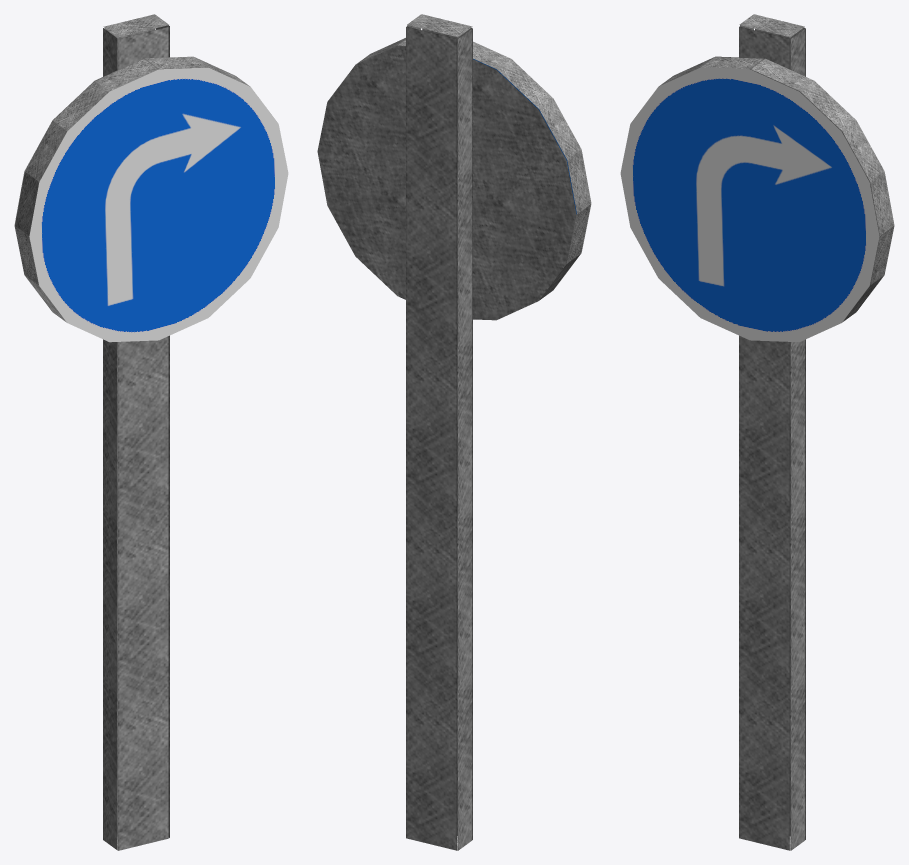
File: RightTurn(3).fbx
The picture shows the model from 3 angles, left to right: view 1: azimuth 30°, elevation 25°; view 2: azimuth 150°, elevation 25°; view 3: azimuth 330°, elevation 25°; orthographic projection.
Parts seen in each view (by area): view 1: Senyal Obligatori gir R; view 2: Senyal Obligatori gir R; view 3: Senyal Obligatori gir R.
Part boxes in pixels (x1=…): Senyal Obligatori gir R: x1=14, y1=14, x2=288, y2=850; Senyal Obligatori gir R: x1=317, y1=14, x2=591, y2=850; Senyal Obligatori gir R: x1=620, y1=14, x2=894, y2=850.
Size of the model in its own units: 100 by 300 by 20.
Materials: 1 (1 with a texture image).
